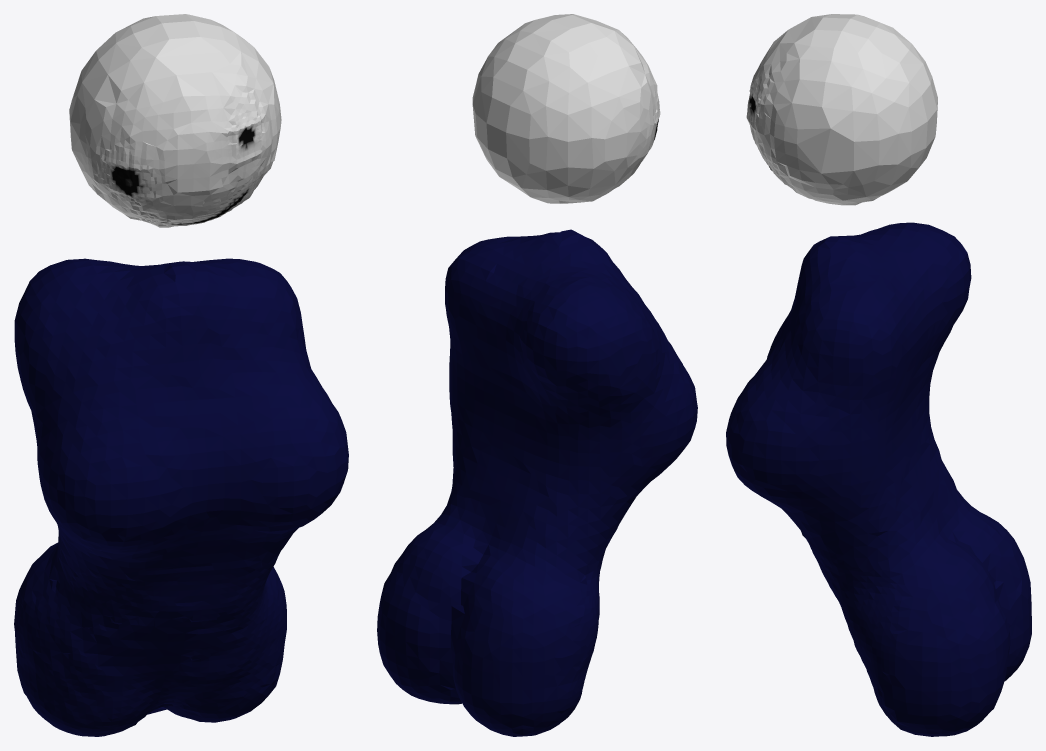
Rendered from I give up.fbx.
The picture shows the model from 3 angles, left to right: view 1: azimuth 30°, elevation 25°; view 2: azimuth 150°, elevation 25°; view 3: azimuth 270°, elevation 25°; orthographic projection. The views are drawn at different scales.
Visible parts, largest first — view 1: 1.001; view 2: 1.001; view 3: 1.001.
Boxes of the visible parts, x1=… form: 1.001: x1=14, y1=14, x2=348, y2=736; 1.001: x1=377, y1=14, x2=697, y2=736; 1.001: x1=726, y1=14, x2=1031, y2=736.
Bounding box in the file's own units: 779 × 1977 × 814.
